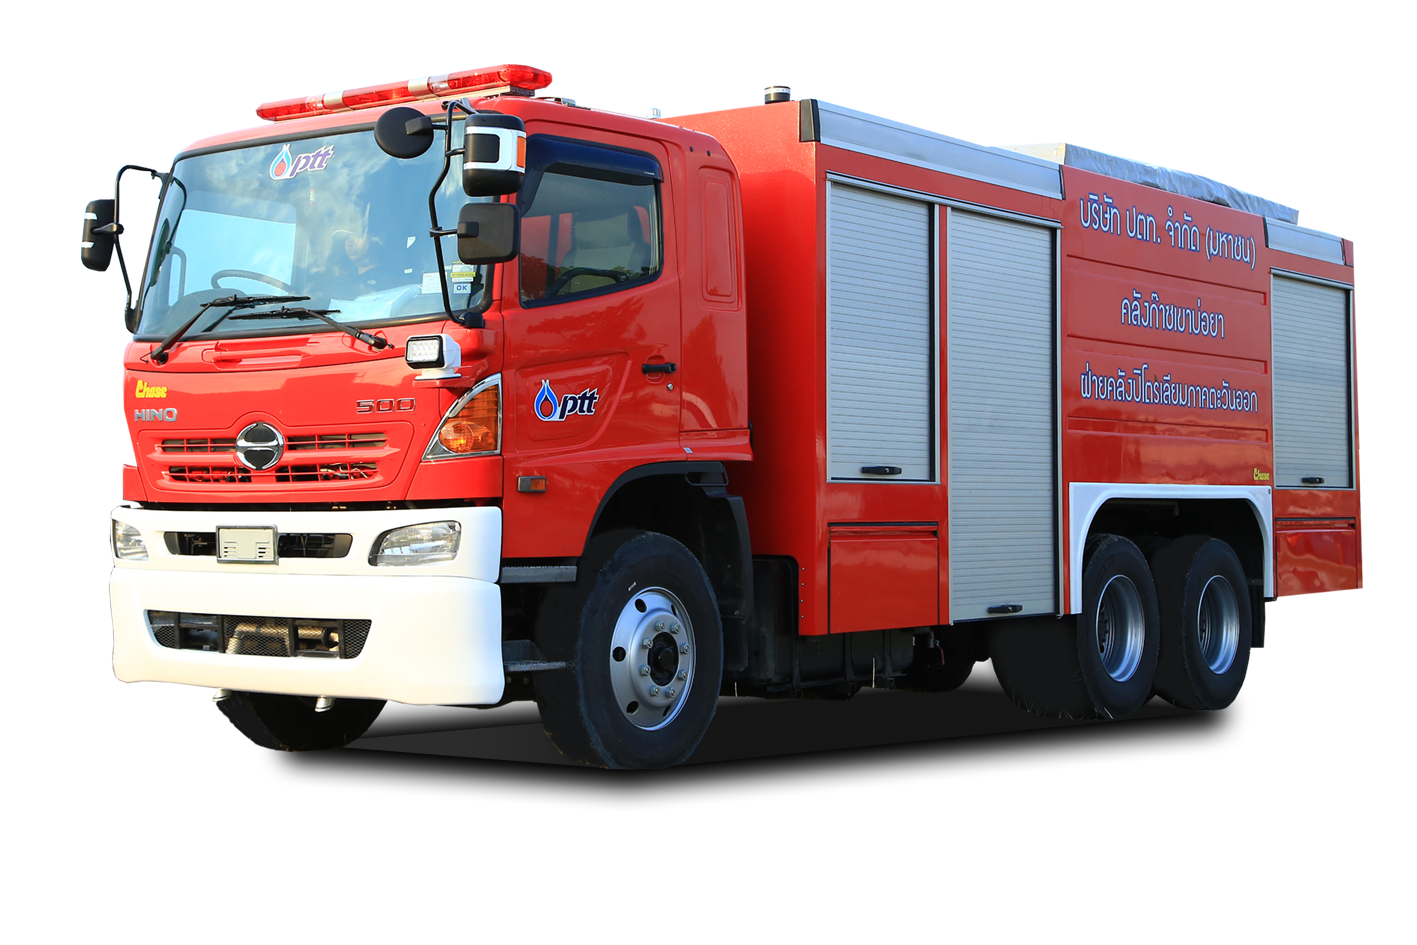truck: (100, 70, 1369, 769)
